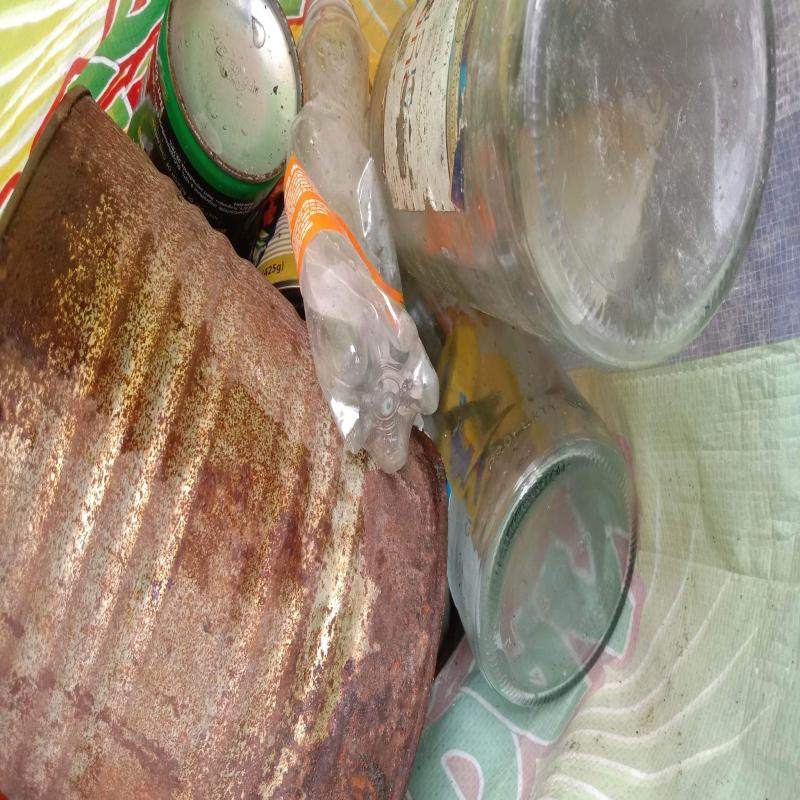aluminum: (0, 85, 446, 800), (127, 0, 299, 228)
glass bottle: (367, 0, 777, 372), (402, 273, 632, 706)
plastic bottle: (286, 0, 440, 478)
